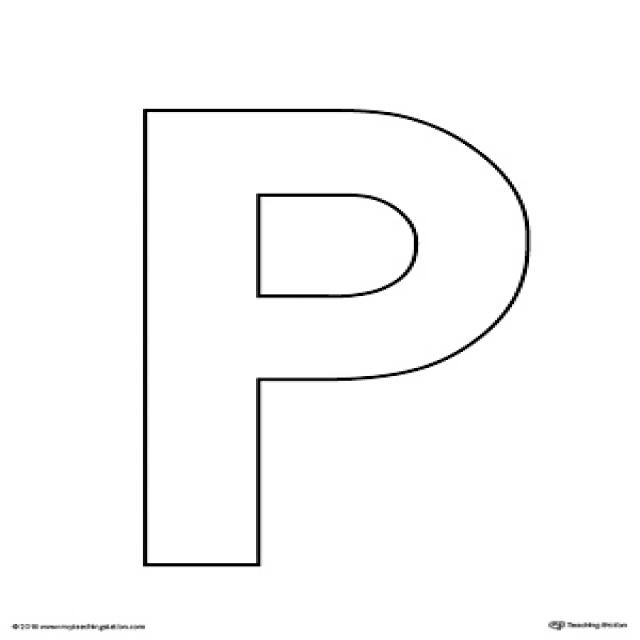P: (85, 49, 540, 573)
